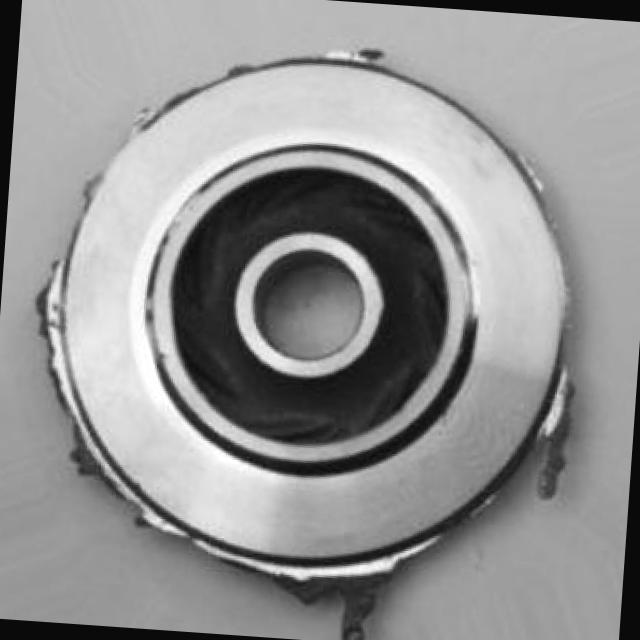Defect: (532, 371, 584, 482), (55, 420, 114, 502), (24, 277, 73, 352)
